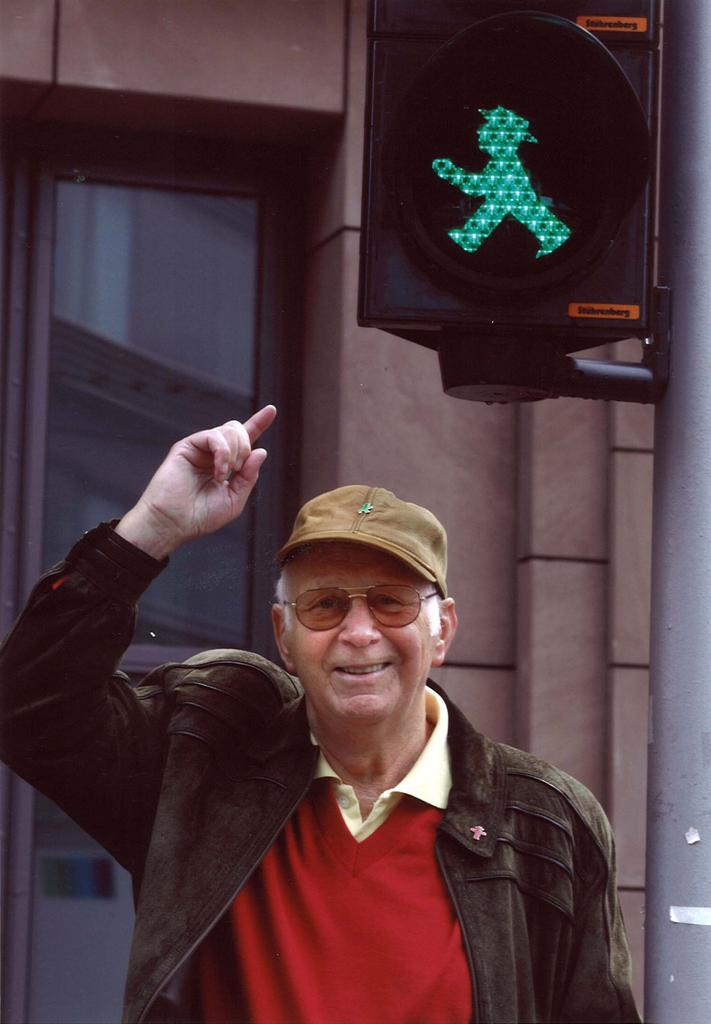Hat: (272, 482, 449, 604)
